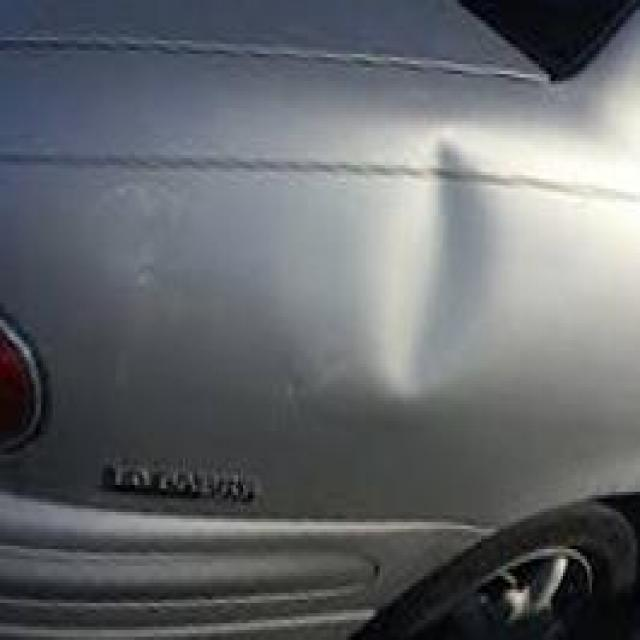dent: (360, 118, 509, 432)
